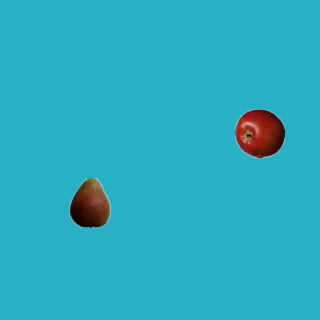Apple Braeburn: (234, 108, 284, 158)
Pear Forelle: (64, 177, 114, 227)
